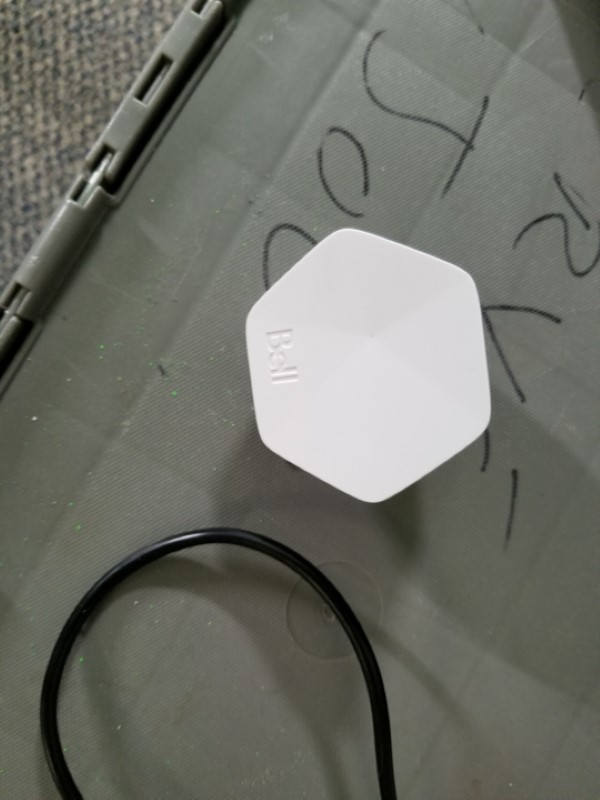pod: (239, 219, 507, 512)
